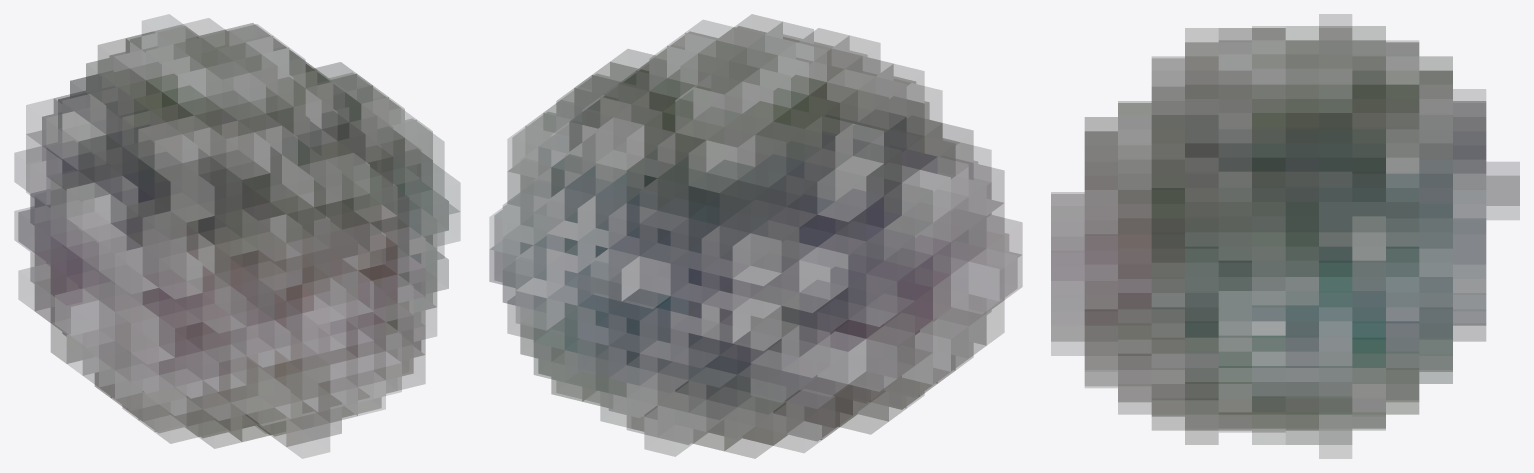
The model's file is iter_20.obj.
The picture shows the model from 3 angles, left to right: view 1: azimuth 30°, elevation 25°; view 2: azimuth 150°, elevation 25°; view 3: azimuth 270°, elevation 25°; orthographic projection. The views are drawn at different scales.
Parts seen in each view (by area): view 1: iter_20; view 2: iter_20; view 3: iter_20.
Boxes of the visible parts, left/top/right/bottom form: iter_20: left=14, top=14, right=460, bottom=458; iter_20: left=489, top=14, right=1022, bottom=458; iter_20: left=1051, top=14, right=1519, bottom=458.
Bounding box in the file's own units: 1.4 × 1.2 × 1.4.
